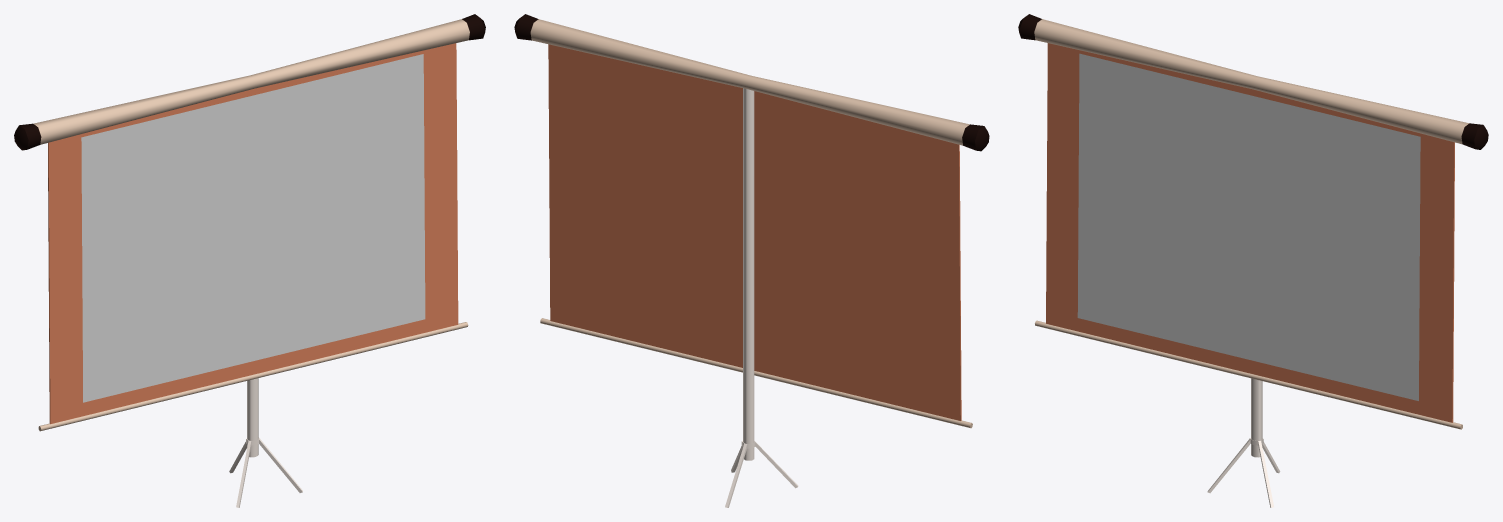
Rendered from slide.fbx.
3 renders of one model, left to right at view 1: azimuth 30°, elevation 25°; view 2: azimuth 150°, elevation 25°; view 3: azimuth 330°, elevation 25°, orthographic.
Visible parts, largest first — view 1: slide; view 2: slide; view 3: slide.
Boxes of the visible parts, box(x1,y1,x2,y2) form: slide: box(14, 14, 485, 507); slide: box(514, 14, 989, 507); slide: box(1018, 14, 1488, 507).
Size of the model in its own units: 182 by 157 by 27.32.
